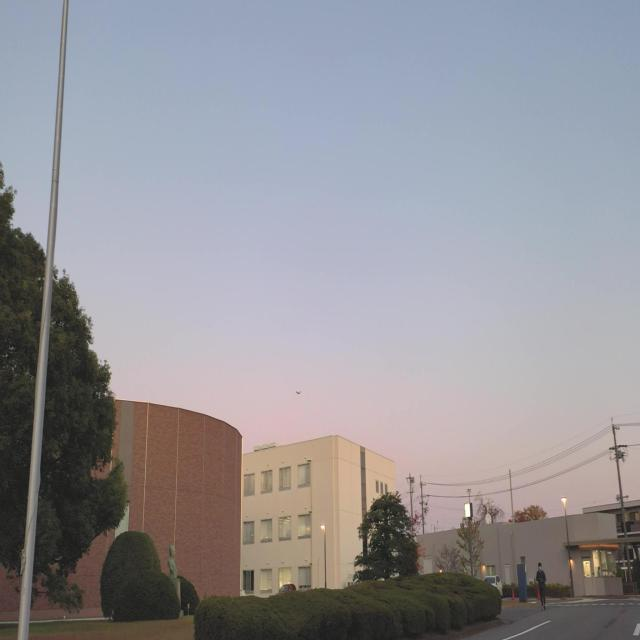Birds: (294, 387, 302, 395)
